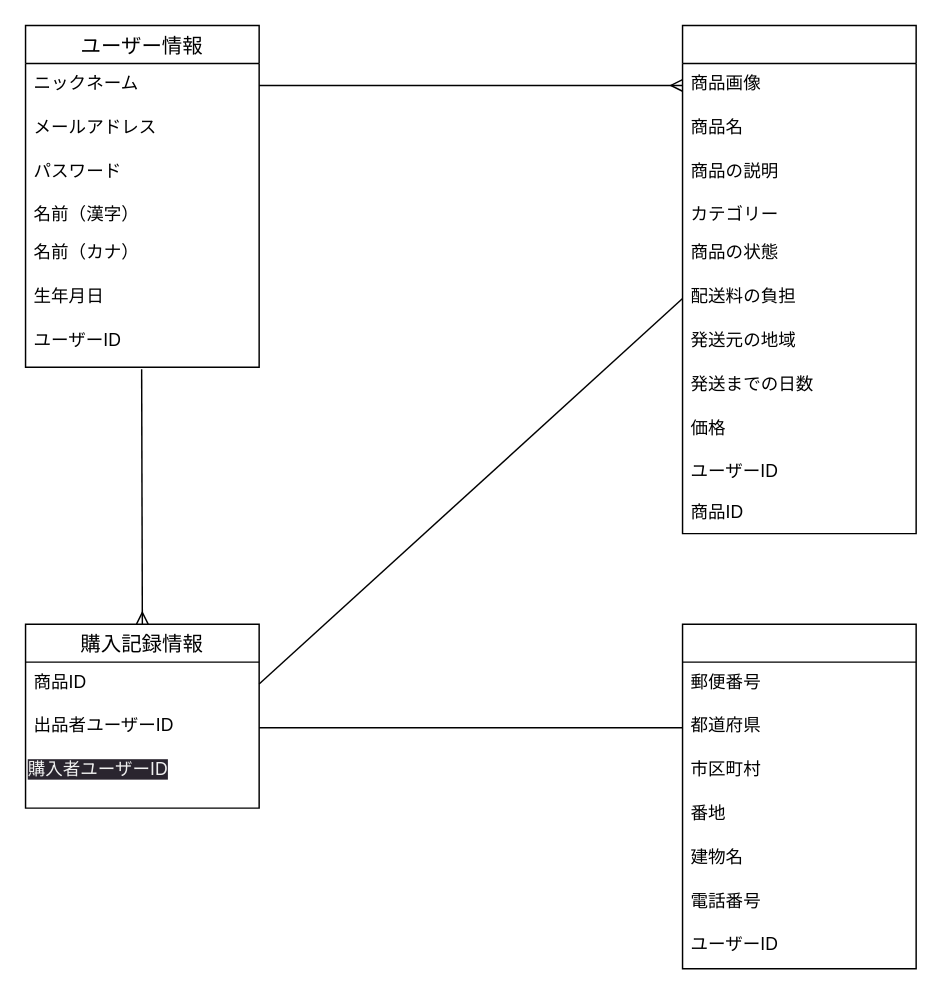
This 942x999 diagram has some shape labels left out. Each missing label, with the box of its shape:
商品情報: (681, 24, 916, 534)
発送先情報: (681, 623, 916, 969)
